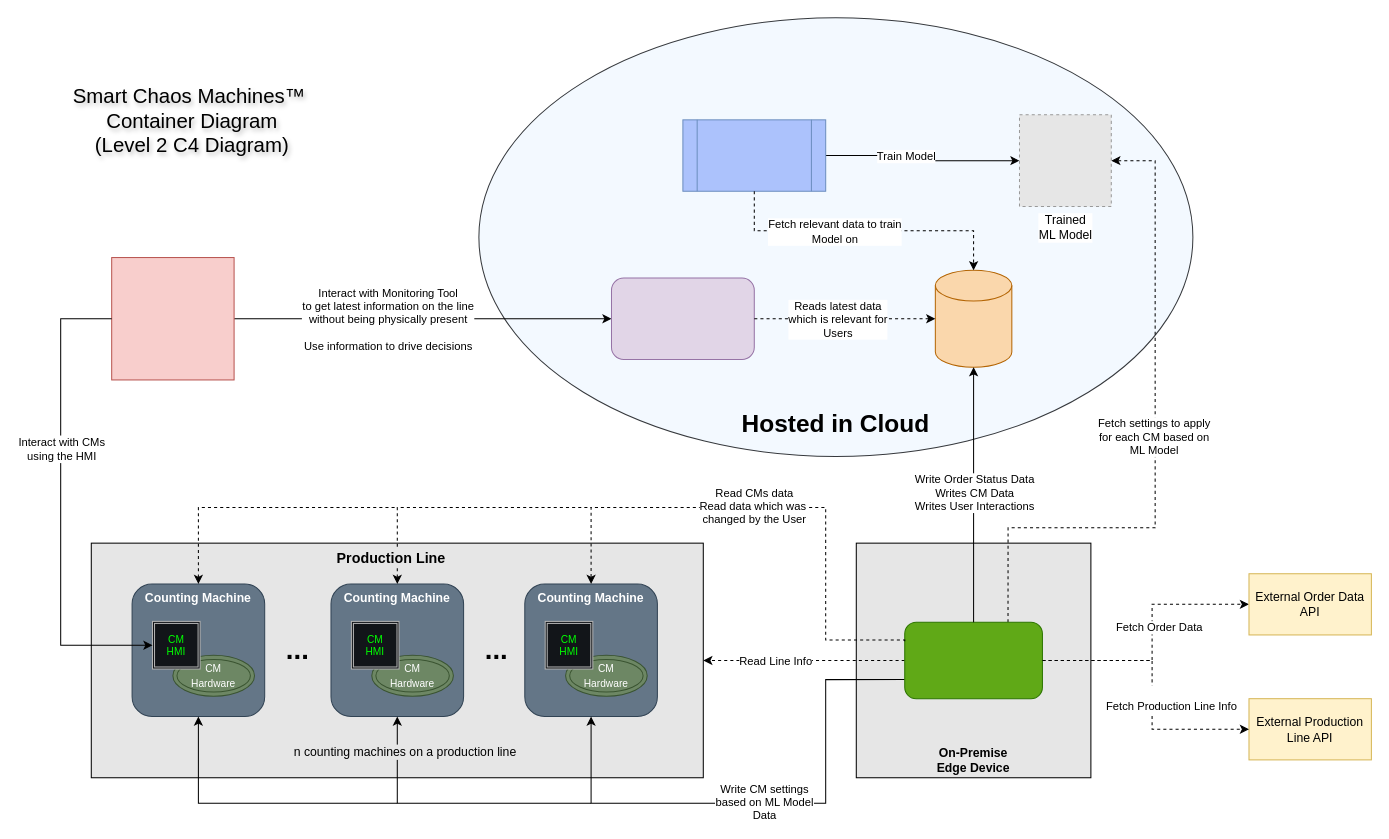
Some shapes in this 1389 by 839 pixel diagram are drawn without their labels. Grey dashed boxes stand in for pictures. Here are the shapes that lost their labels. From the top down, the centre of each, then its label:
At (x=754, y=155): "ML Data Pipeline [Python]".
At (x=172, y=318): "User [Operator] A factory shopfloor worker".
At (x=682, y=318): "SCM Frontend [React]".
At (x=973, y=318): "Data Lake [AWS]".
At (x=973, y=660): "SCM Backend [C#/.NET]".
